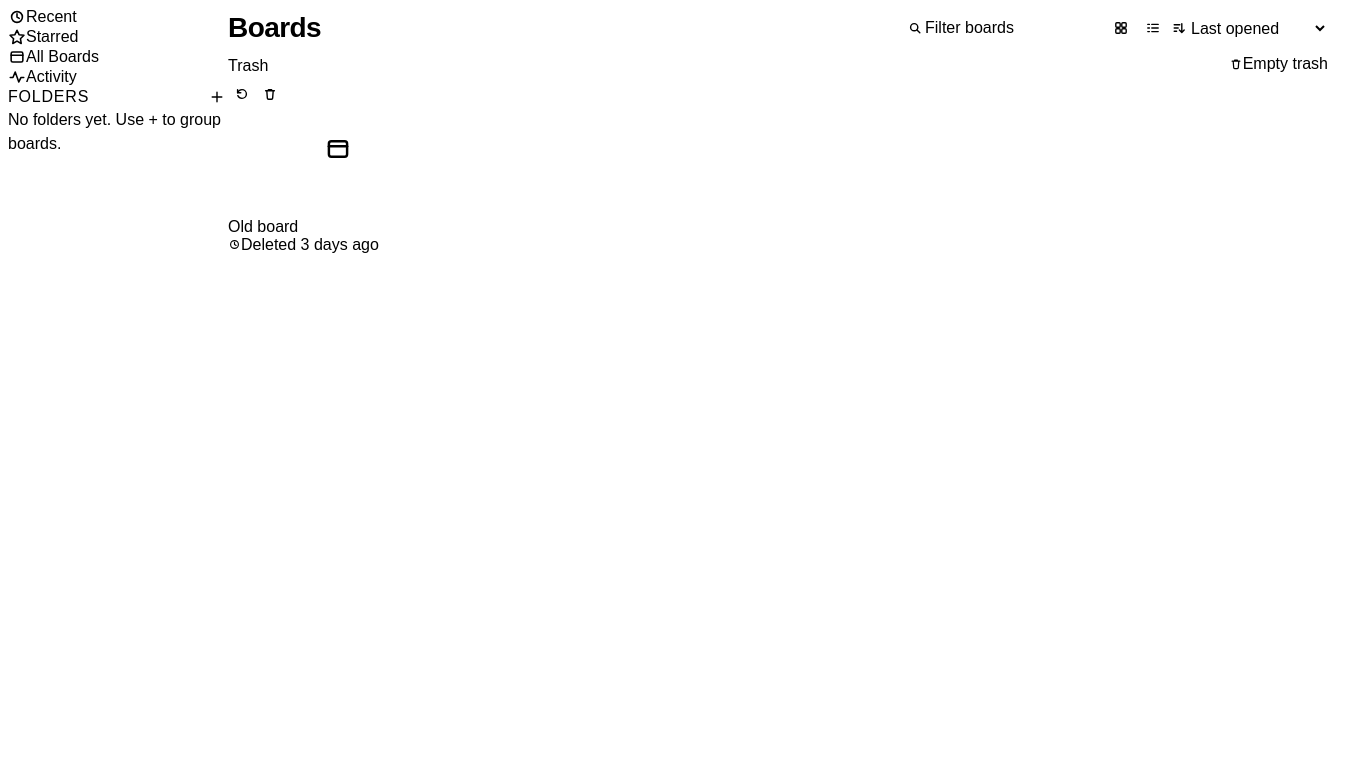
Scenario: trash upkeep › empties the trash only after confirmation
Click the button "Empty trash": (1278, 64) 1229,48 -> 1328,80
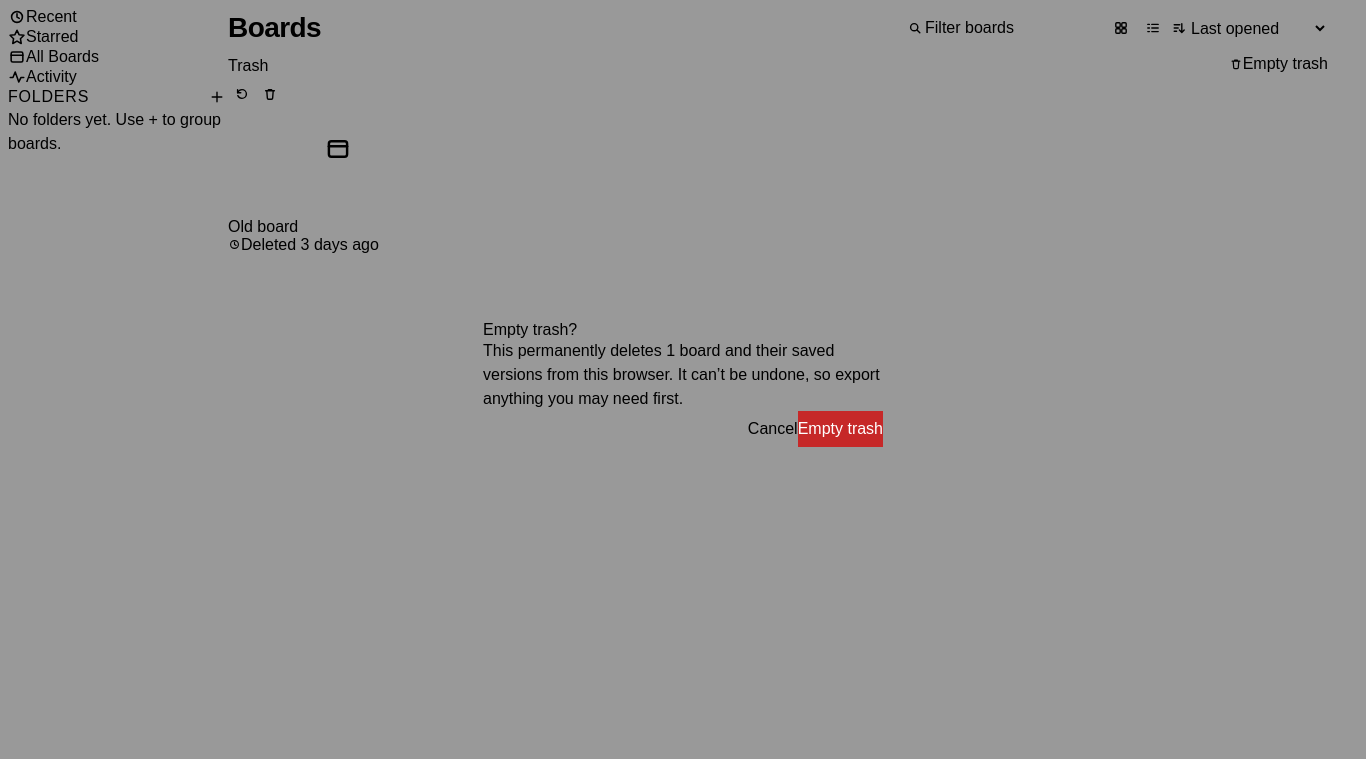
Now the dialog "Empty trash?" shows "1 board", box 666,342 -> 720,359
Click the button "Cancel": (773, 429) 748,411 -> 798,447
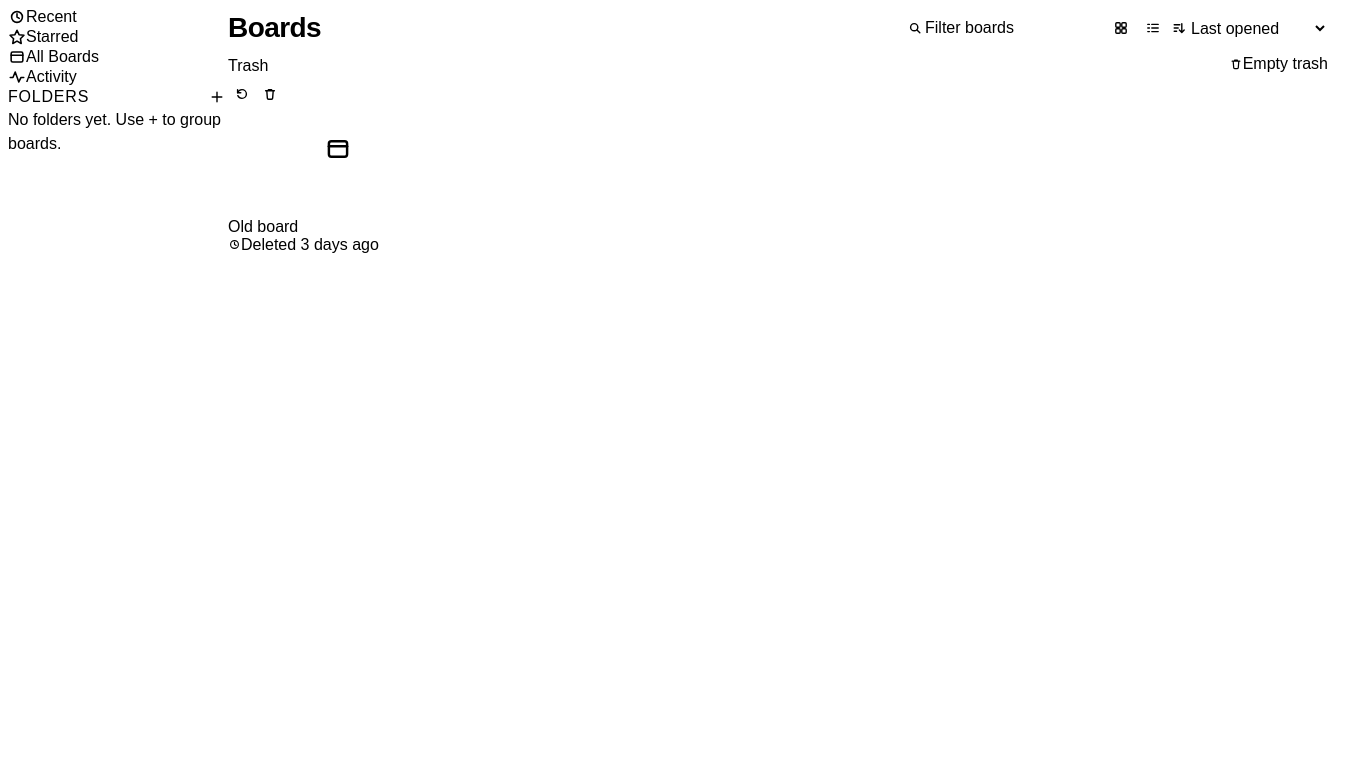
Now the dialog is gone
Click the button "Empty trash": (1278, 64) 1229,48 -> 1328,80
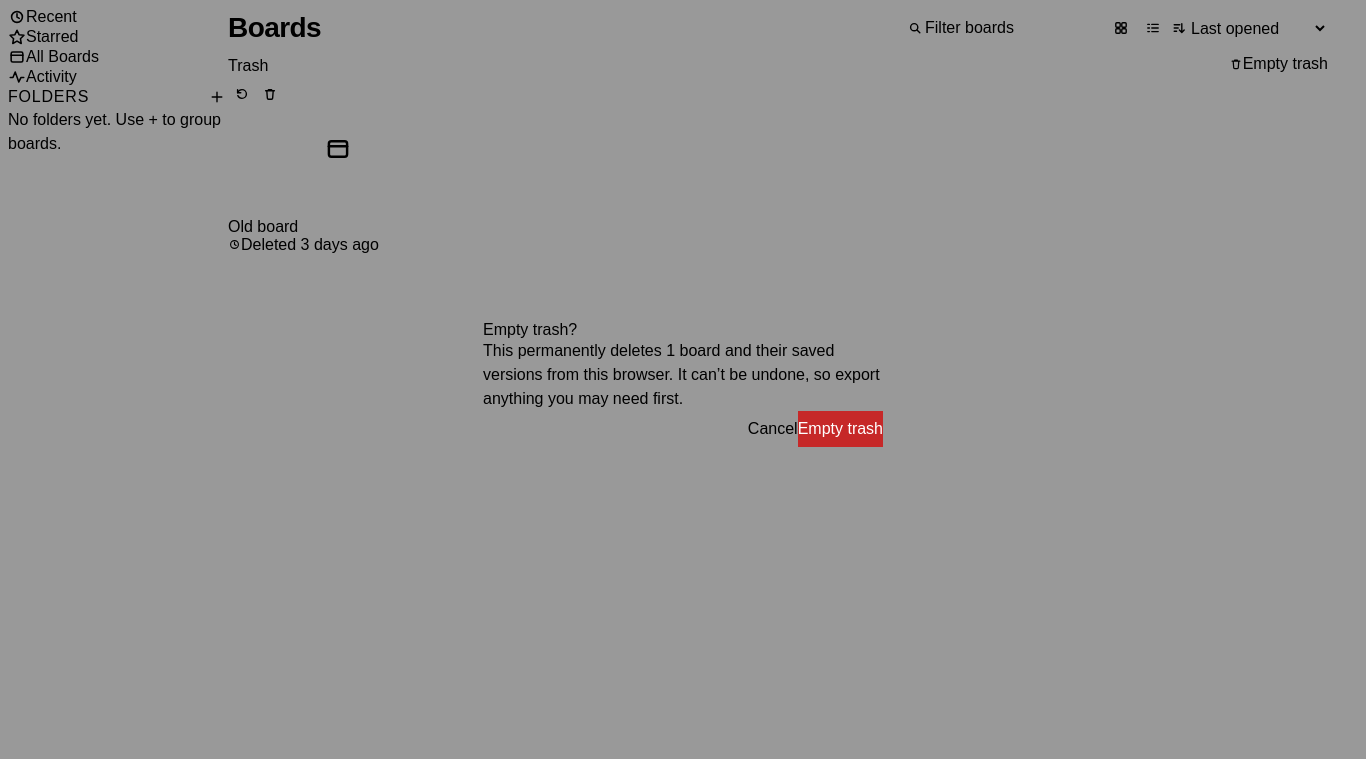
Press Escape in the dialog, box 483,321 -> 883,447
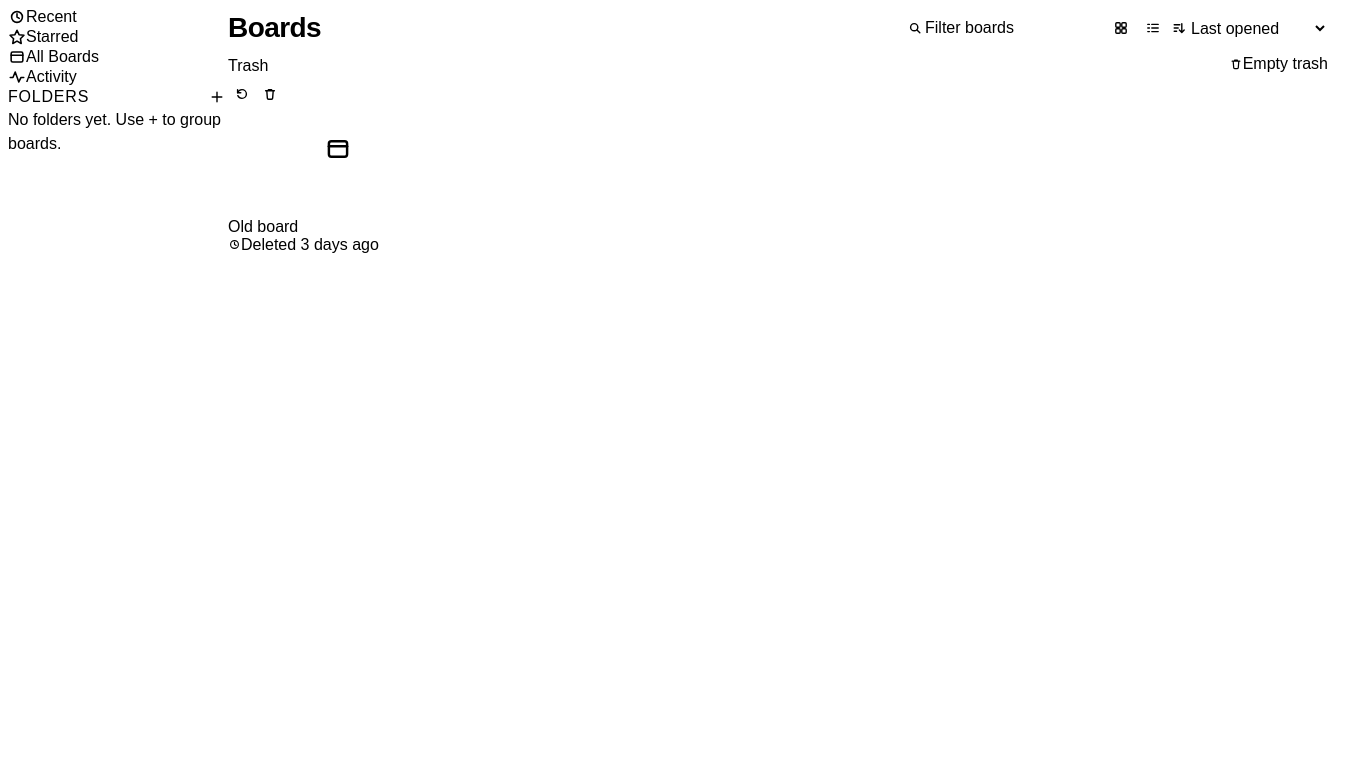
Click the button "Empty trash": (1278, 64) 1229,48 -> 1328,80
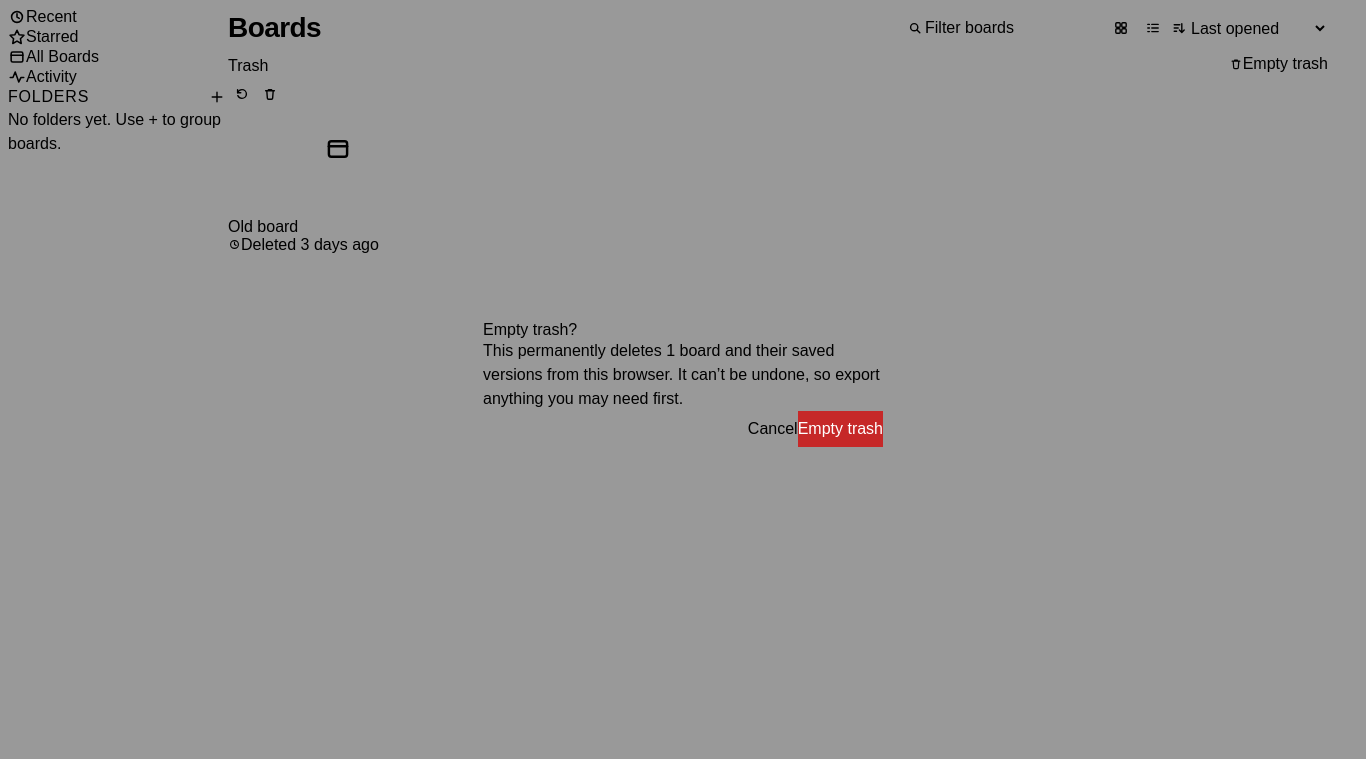
Click the button "Empty trash": (840, 429) 798,411 -> 883,447
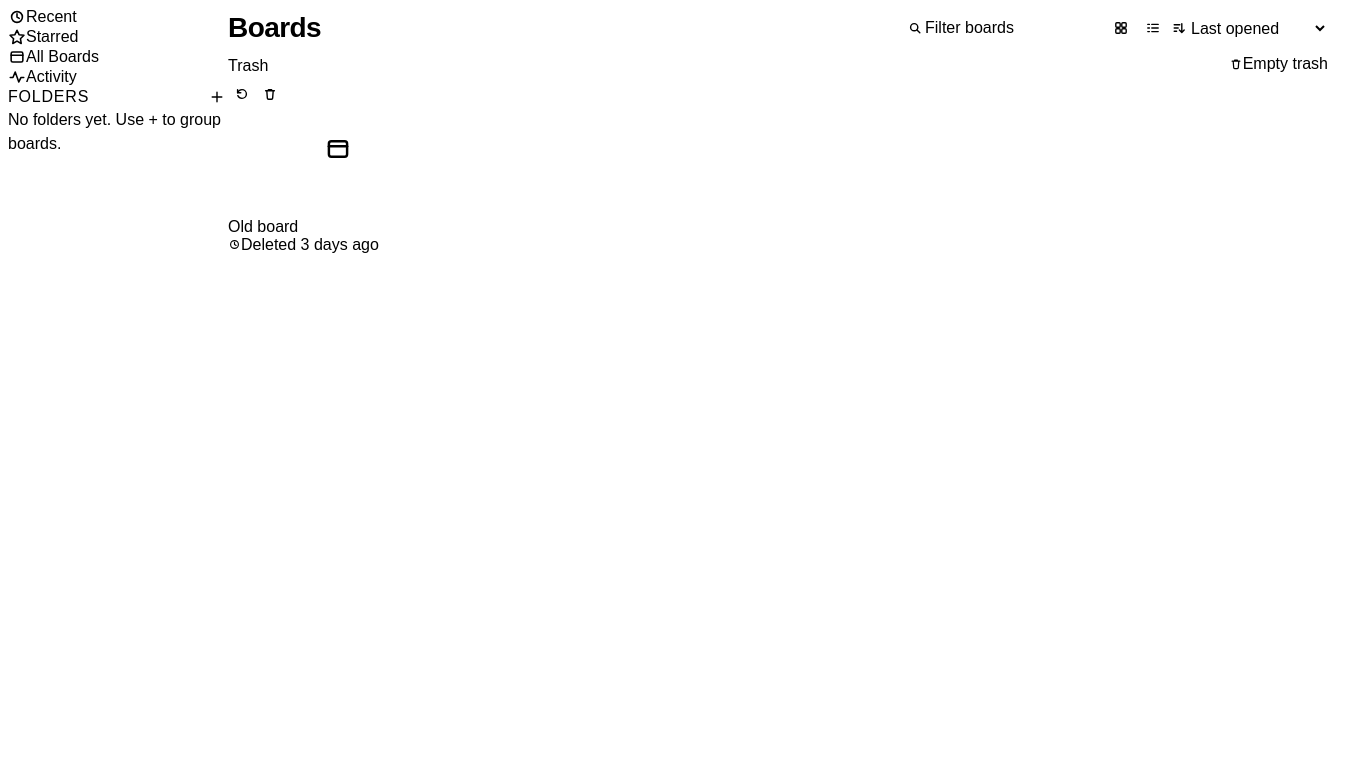
Now the dialog is gone
